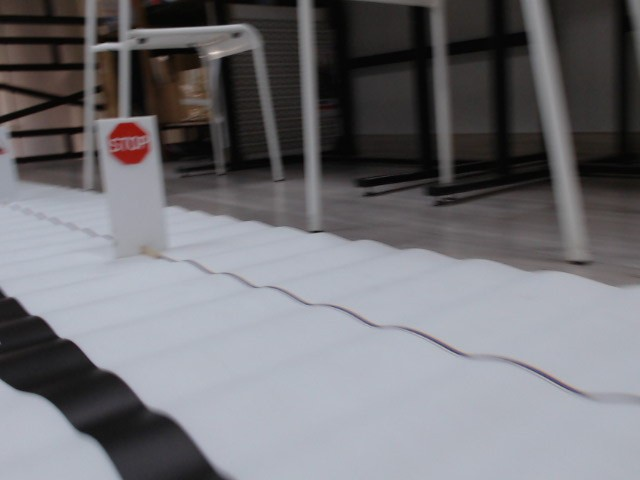Stop: (106, 123, 154, 165)
